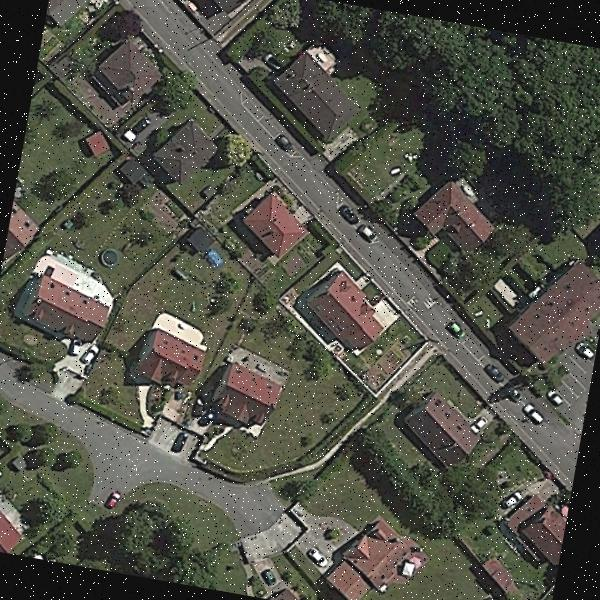Buildings: (514, 253, 600, 361), (7, 266, 116, 342), (280, 53, 370, 142), (324, 523, 415, 600), (317, 272, 386, 350), (420, 184, 494, 256), (401, 400, 471, 471), (243, 190, 311, 259), (212, 367, 283, 426), (512, 494, 564, 564), (156, 119, 212, 183), (104, 43, 161, 104), (141, 332, 201, 384), (3, 197, 42, 259), (464, 553, 519, 594), (0, 474, 25, 554), (43, 0, 88, 32), (199, 0, 251, 16)
